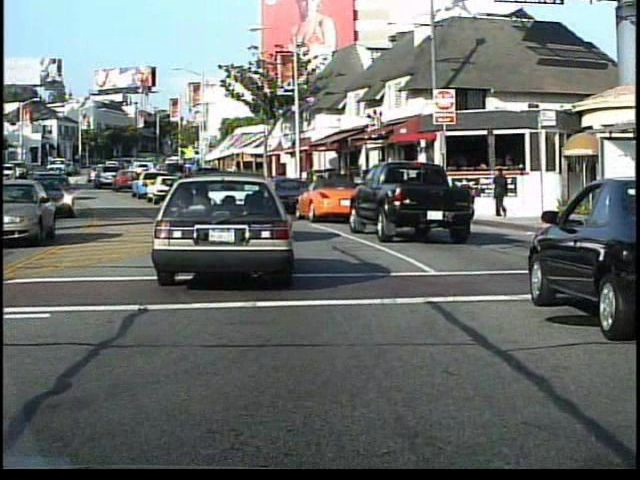person: (492, 168, 512, 222)
